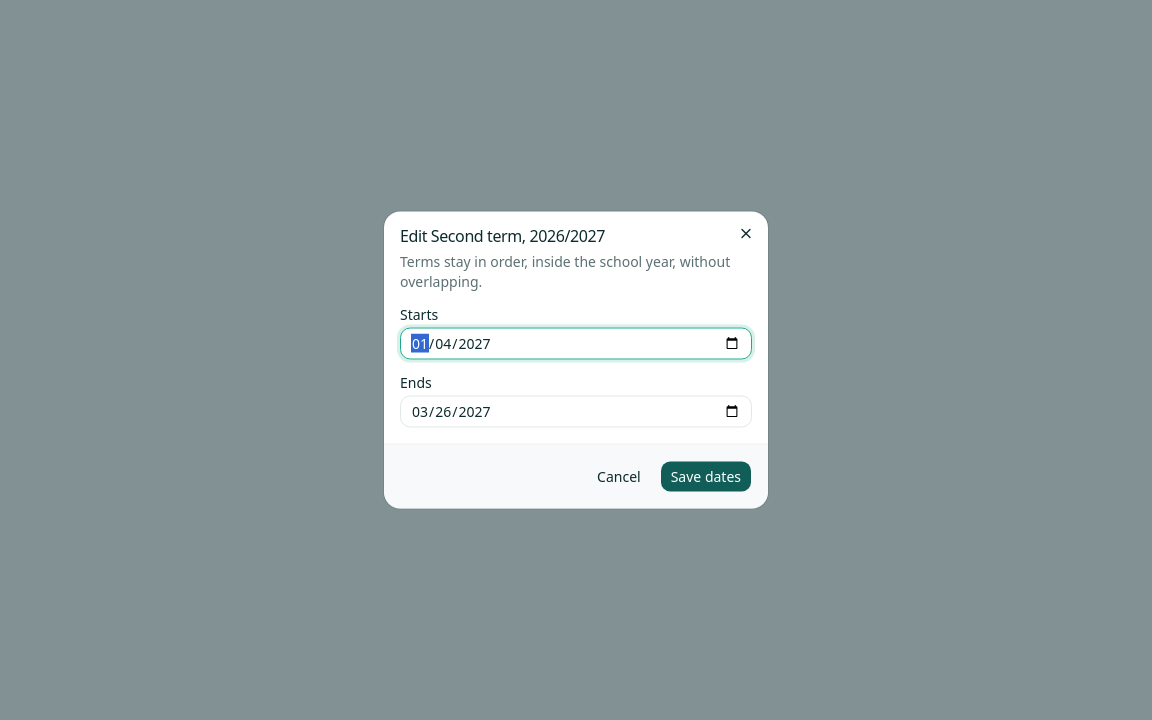
Test case: EditDatesDialog › shows the API refusal inline and stays open
The image size is (1152, 720).
Step 1. Click the button "Save dates" → click(706, 476), box [660,460,752,492]
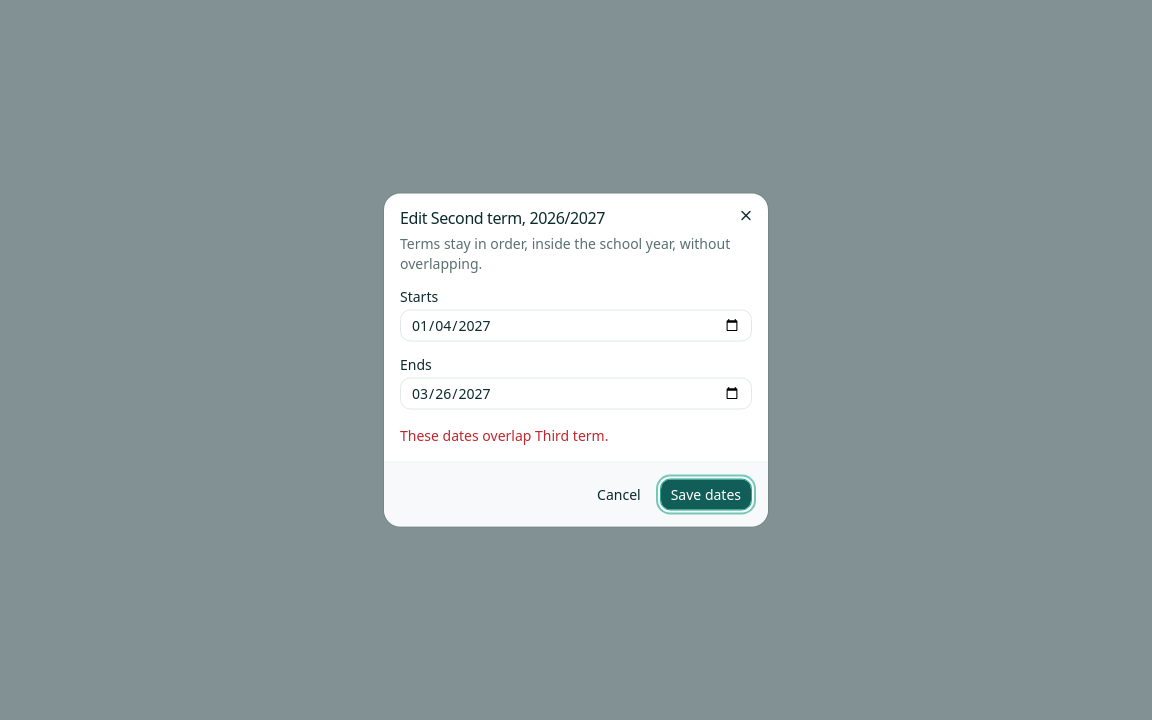
Check: the message reads "These dates overlap Third term.", box [400,426,608,444]
